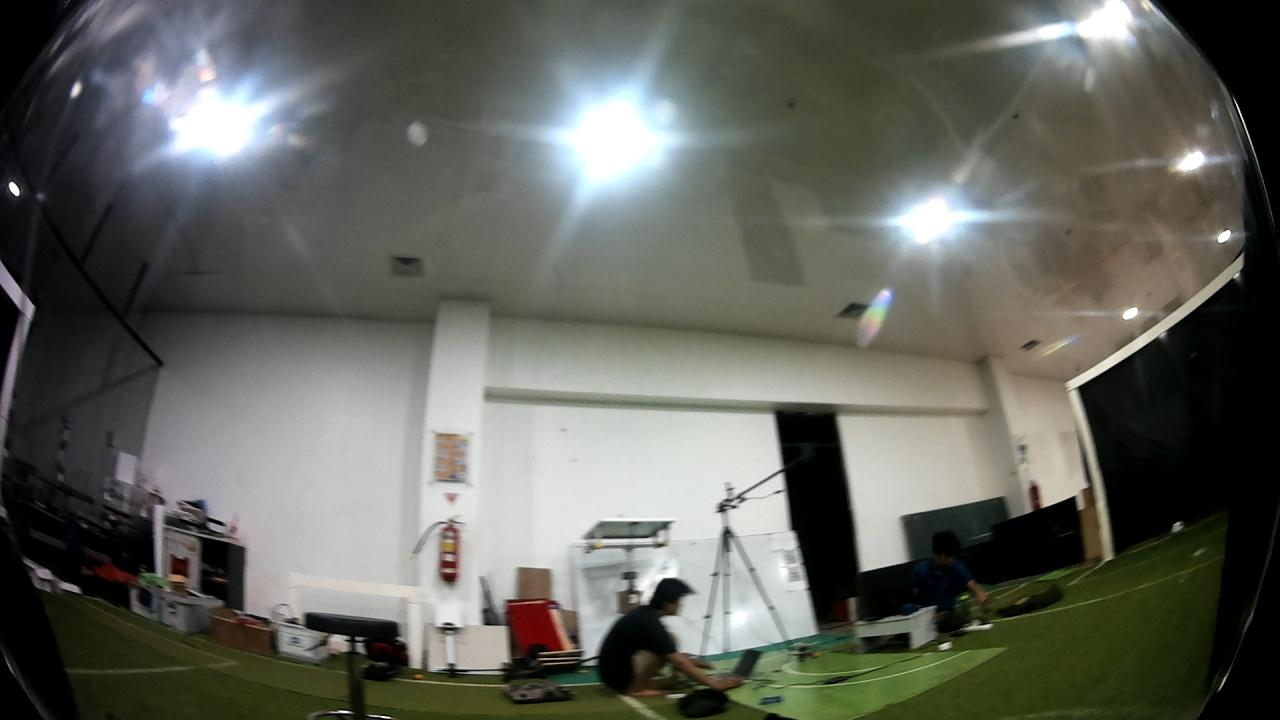ball: (1167, 515, 1184, 537)
